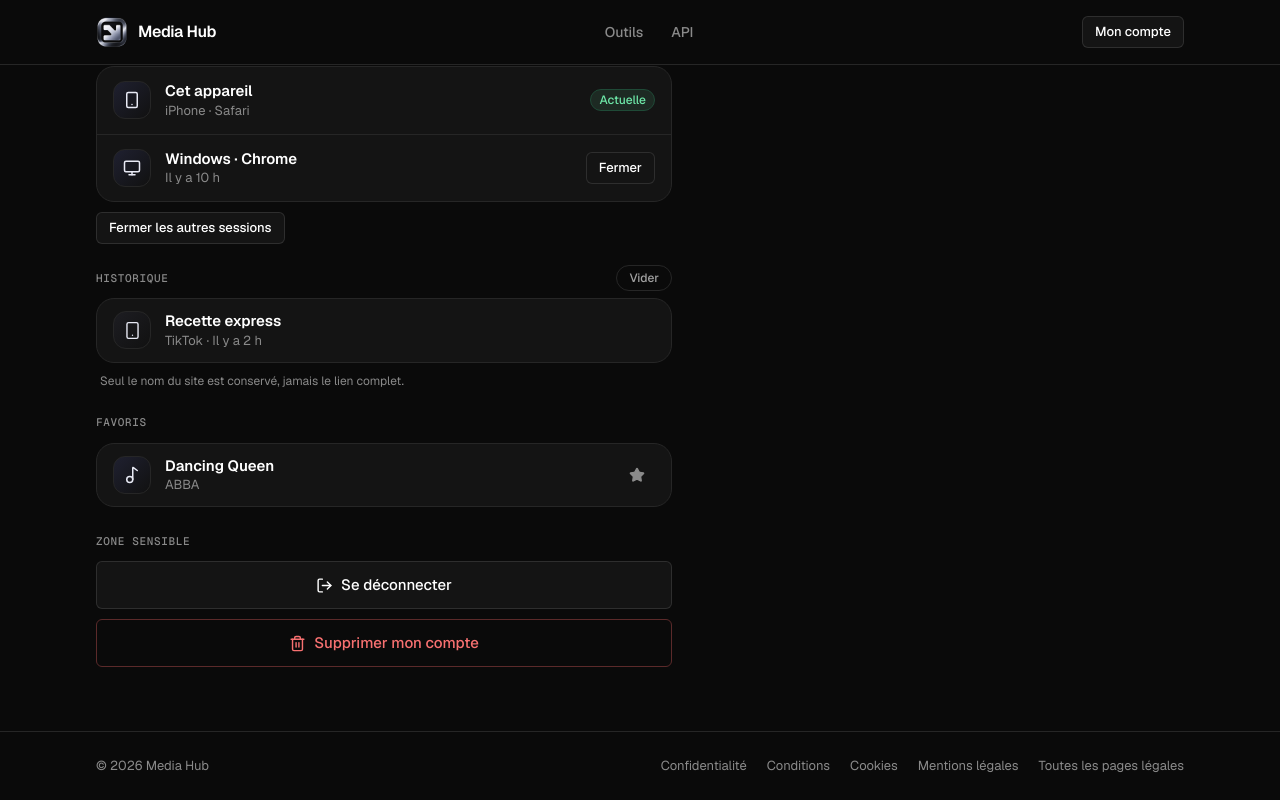
Test: page Compte › demande le mot de passe avant de supprimer le compte
The width and height of the screenshot is (1280, 800).
(page scrolled)
Click the button "Supprimer mon compte" at (384, 643), box [96,619,672,667]
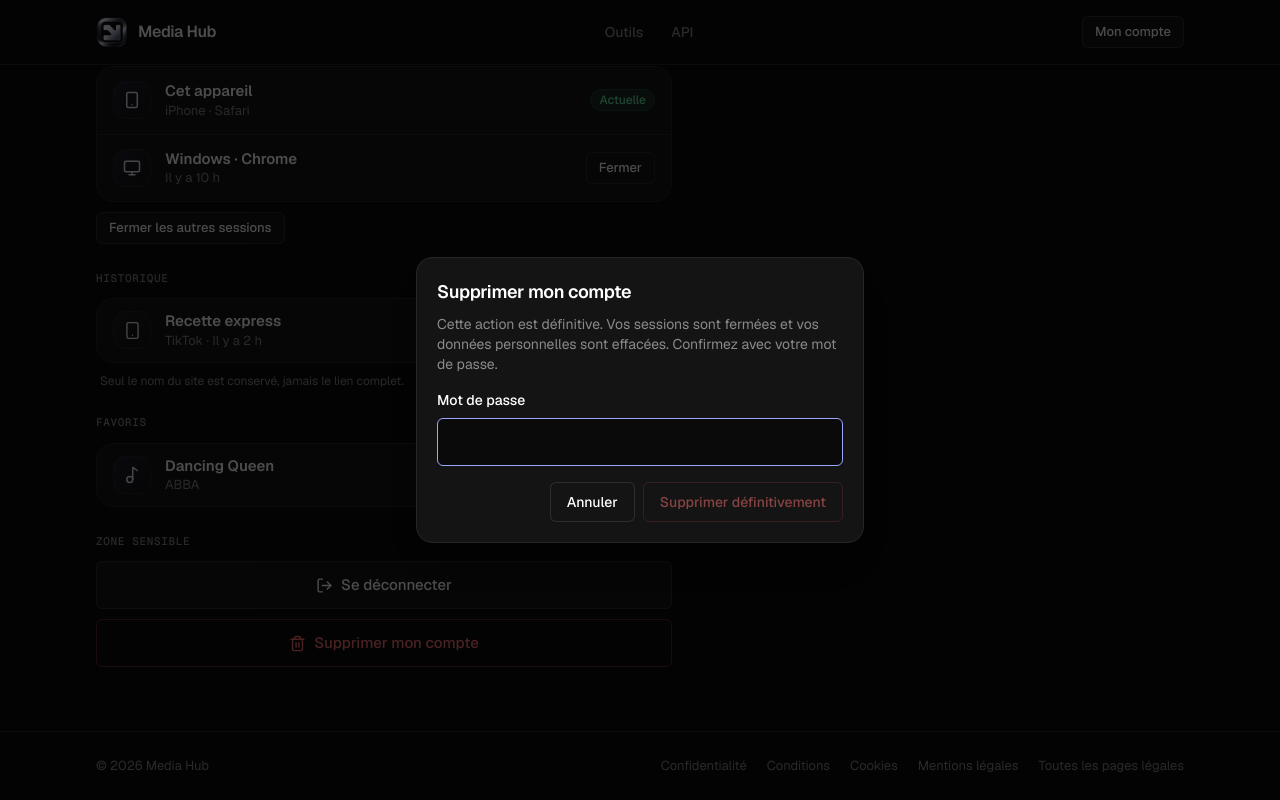
Check: the dialog "Supprimer mon compte" is shown, box [416,257,864,543]
Check: the button "Supprimer définitivement" is disabled, box [643,482,843,522]
